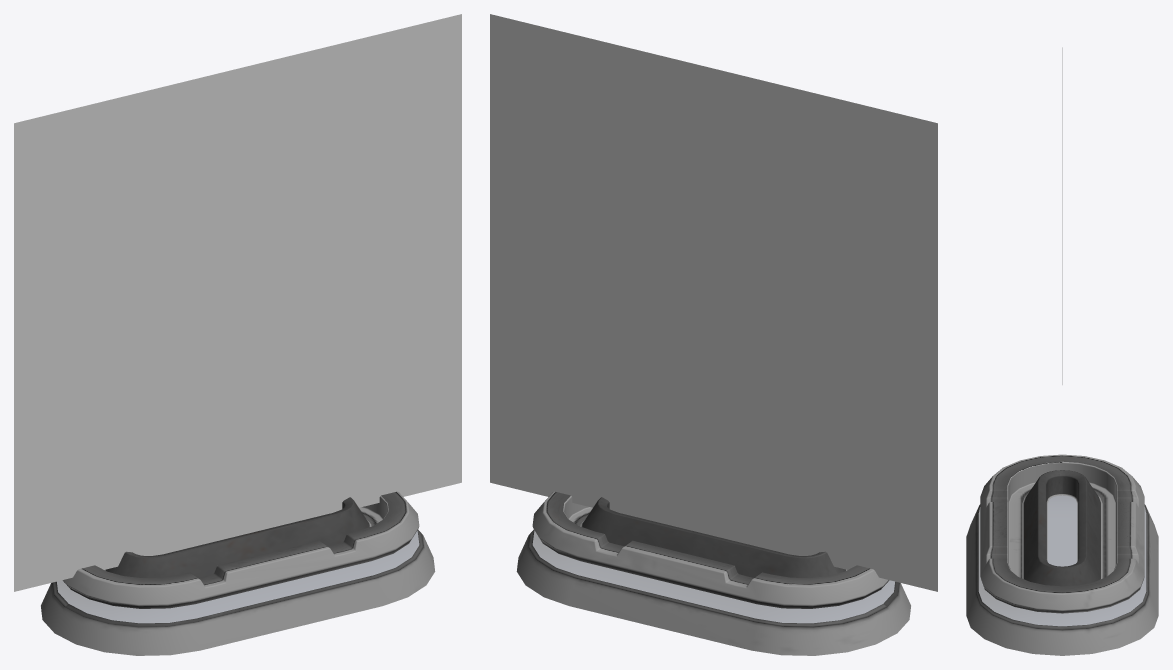
File: StandingTarget.fbx
3 views of the same model, side by side, from view 1: azimuth 30°, elevation 25°; view 2: azimuth 150°, elevation 25°; view 3: azimuth 270°, elevation 25° (orthographic). The views are drawn at different scales.
Parts seen in each view (by area): view 1: Plane, TargetBase; view 2: Plane, TargetBase; view 3: TargetBase, Plane.
Boxes of the visible parts, bbox=[...] form: Plane: bbox=[14, 14, 461, 591]; TargetBase: bbox=[41, 491, 435, 655]; Plane: bbox=[490, 14, 937, 591]; TargetBase: bbox=[516, 491, 910, 655]; TargetBase: bbox=[966, 454, 1158, 655]; Plane: bbox=[1062, 47, 1062, 384].
Bounding box in the file's own units: 0.3884 × 0.4312 × 0.1615.
